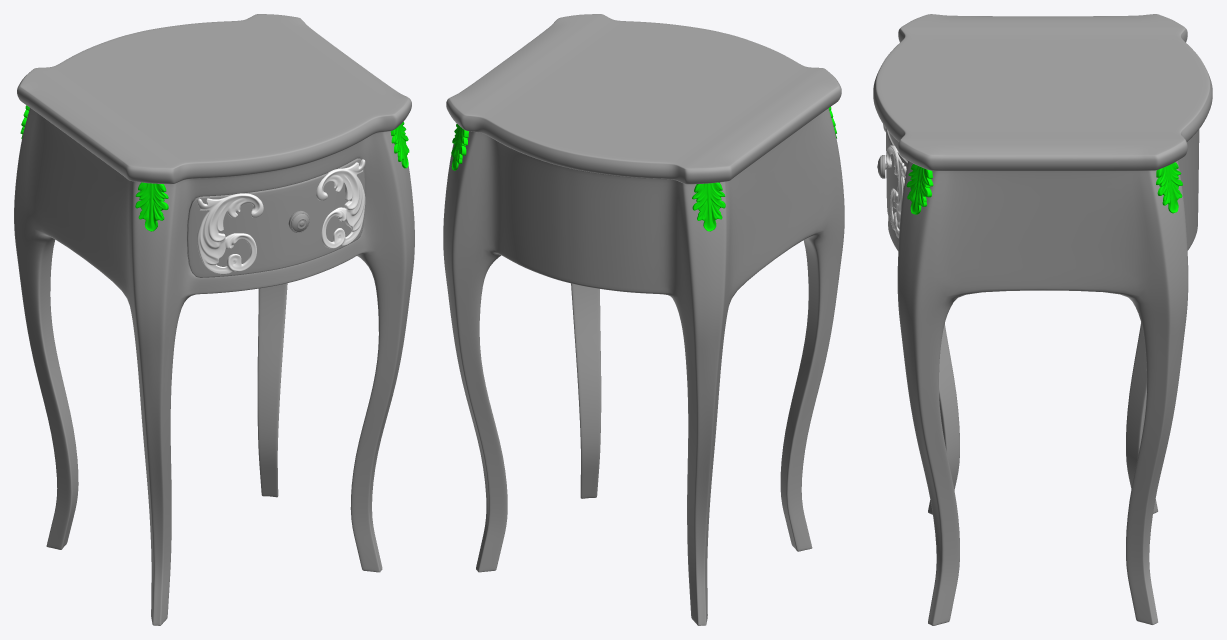
Rendered from Luxury Side Table.fbx.
3 views of the same model, side by side, from view 1: azimuth 30°, elevation 25°; view 2: azimuth 150°, elevation 25°; view 3: azimuth 270°, elevation 25° (orthographic). The views are drawn at different scales.
Parts seen in each view (by area): view 1: LuxuryLivingRoomFurnitureSet:SideTableBody3, LuxuryLivingRoomFurnitureSet:SideTableDetailing7; view 2: LuxuryLivingRoomFurnitureSet:SideTableBody3, LuxuryLivingRoomFurnitureSet:SideTableDetailing7; view 3: LuxuryLivingRoomFurnitureSet:SideTableBody3, LuxuryLivingRoomFurnitureSet:SideTableDetailing7.
Part boxes in pixels (<box>): LuxuryLivingRoomFurnitureSet:SideTableBody3: <box>14,14,414,625</box>; LuxuryLivingRoomFurnitureSet:SideTableDetailing7: <box>20,105,409,274</box>; LuxuryLivingRoomFurnitureSet:SideTableBody3: <box>443,14,844,625</box>; LuxuryLivingRoomFurnitureSet:SideTableDetailing7: <box>451,107,836,231</box>; LuxuryLivingRoomFurnitureSet:SideTableBody3: <box>873,14,1212,625</box>; LuxuryLivingRoomFurnitureSet:SideTableDetailing7: <box>883,124,1182,238</box>.
Size of the model in its own units: 11.05 by 17.37 by 11.02.
